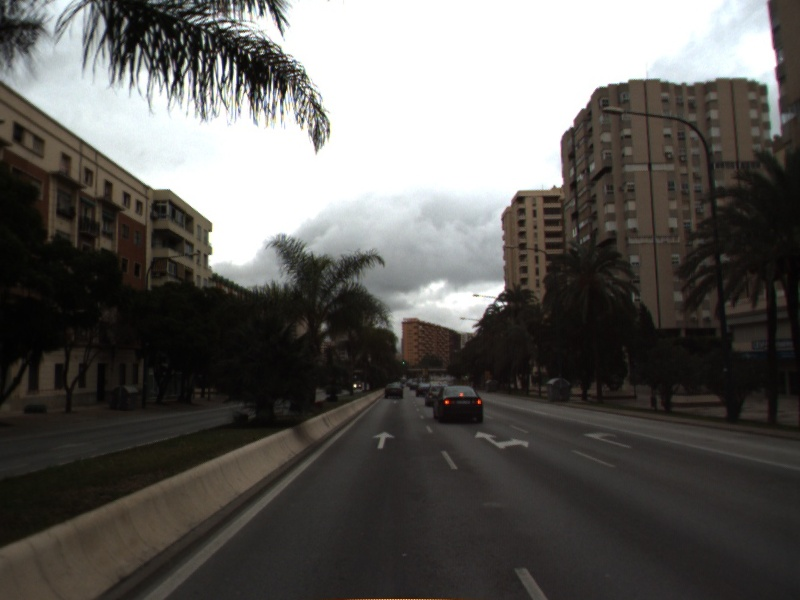RIGHT: (581, 429, 634, 450)
STRAIGHT: (370, 429, 397, 451)
STRAIGHT_RIGHT: (473, 429, 530, 451)
